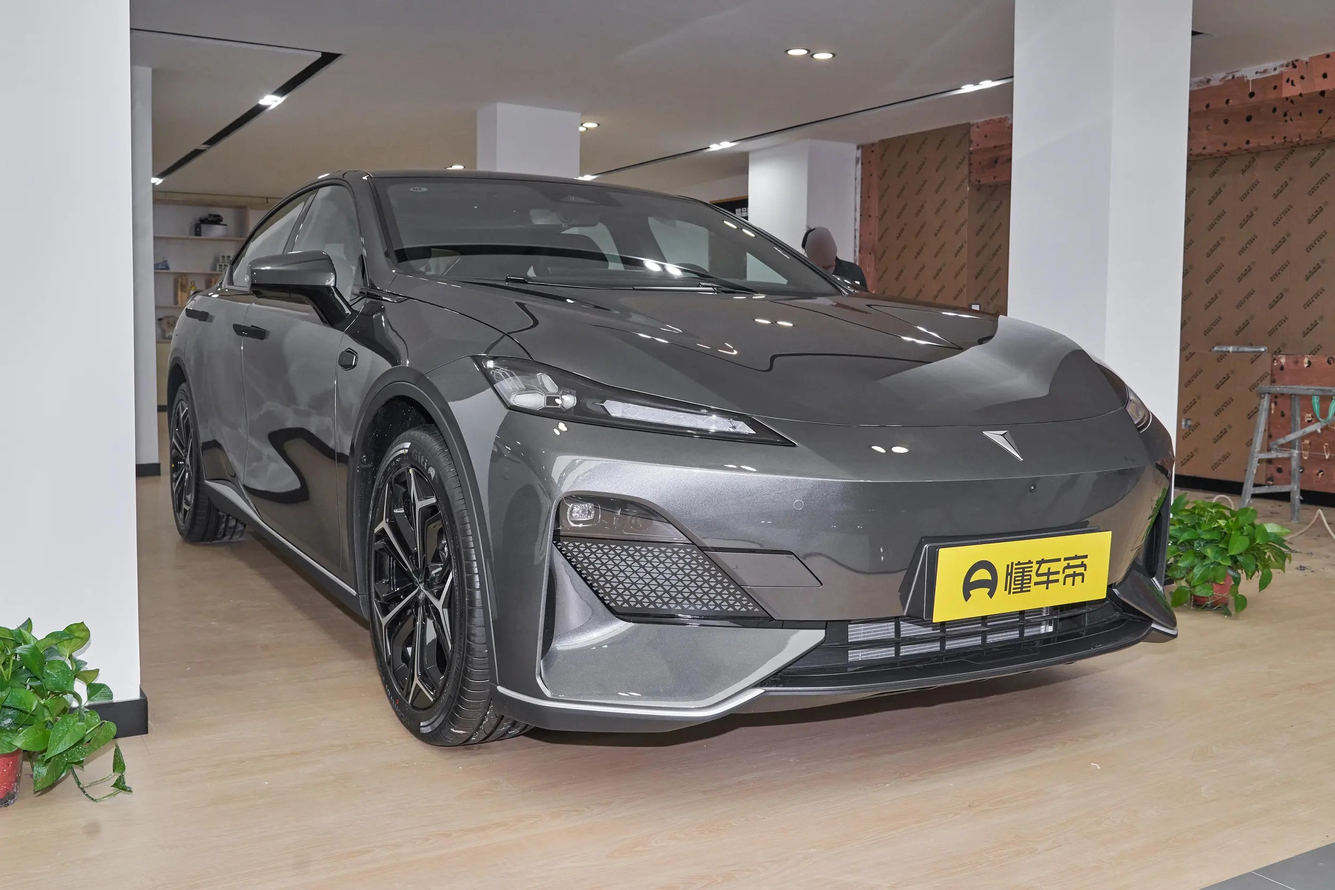Deepal: (983, 431, 1023, 460)
